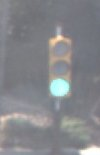Green: (45, 32, 78, 103)
